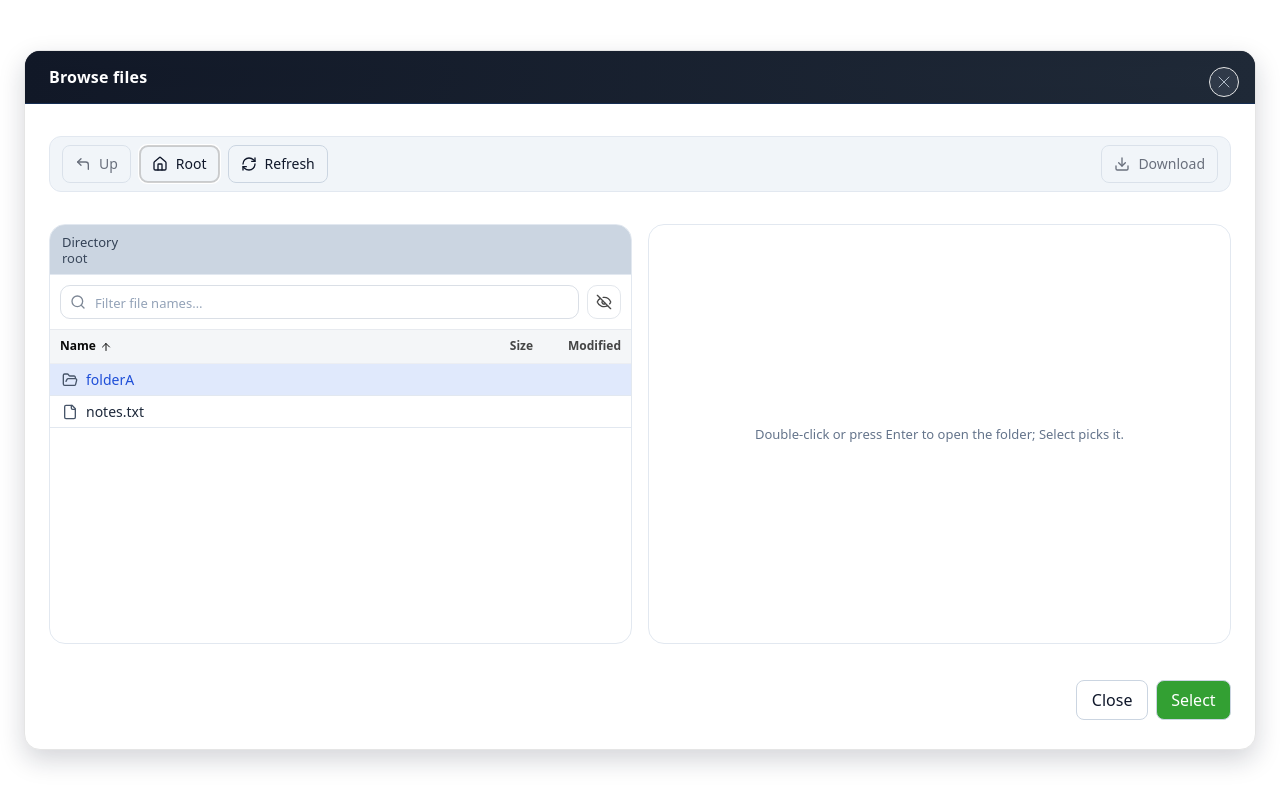
Test: RemoteFileDialog › filters visible entries by search text
Check: the text "folderA" is shown, box left=86, top=370, right=134, bottom=389
Type "notes" into the field labelled "Filter file names" at (320, 302), box left=60, top=285, right=579, bottom=319
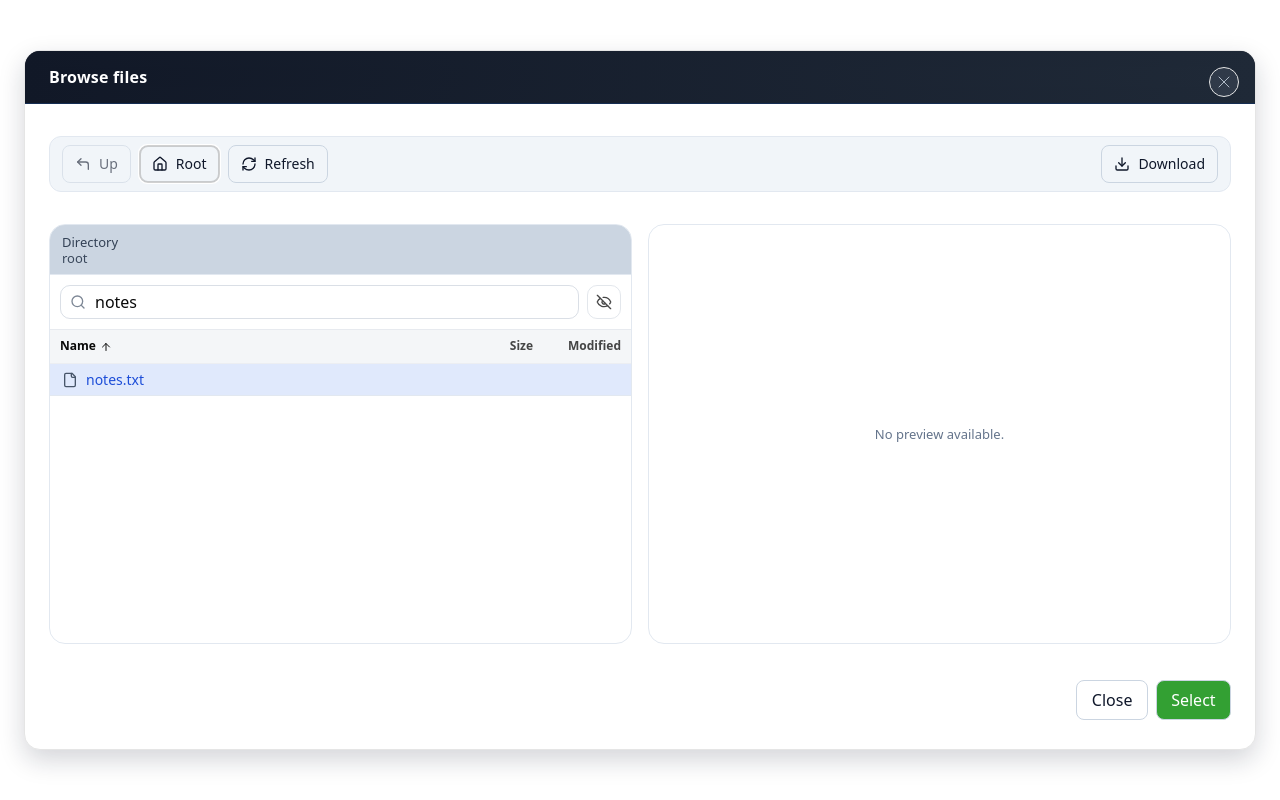
Check: the text "notes.txt" is shown, box left=86, top=370, right=144, bottom=389
Check: the option "folderA" is gone
